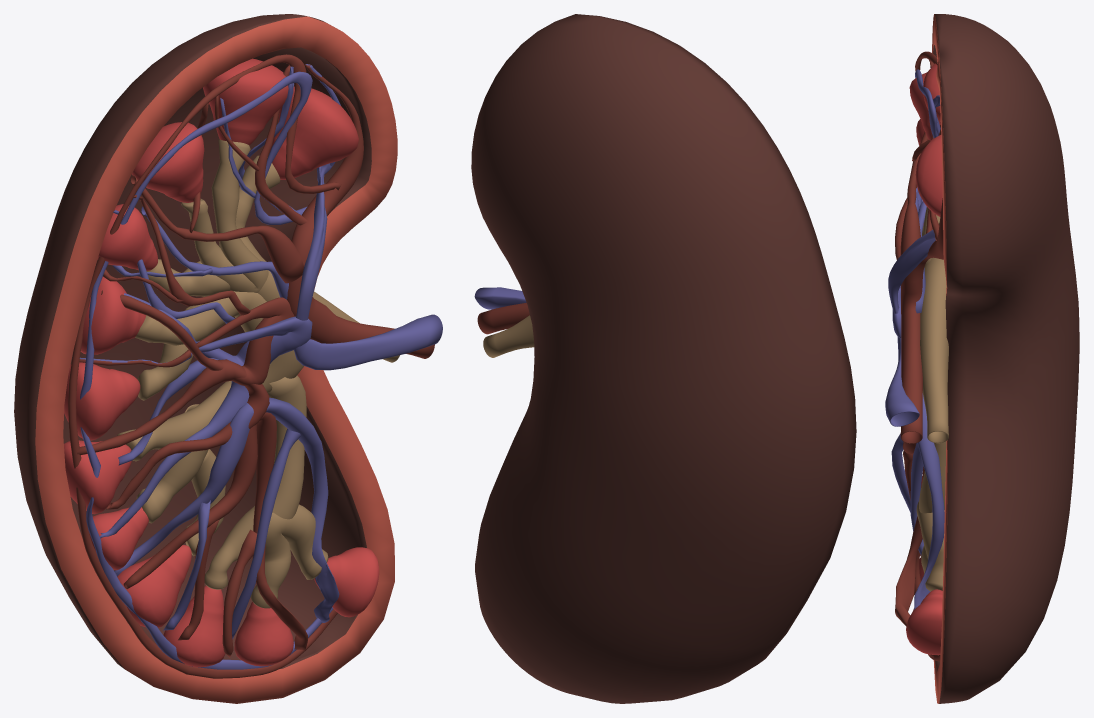
The model's file is kidney.glb.
3 views of the same model, side by side, from view 1: azimuth 30°, elevation 25°; view 2: azimuth 150°, elevation 25°; view 3: azimuth 270°, elevation 25° (orthographic). The views are drawn at different scales.
Parts seen in each view (by area): view 1: KidneyOutside, Icosphere, BezierCurve, BezierCurve.002, BezierCurve.001; view 2: KidneyOutside, BezierCurve.001, BezierCurve, BezierCurve.002; view 3: KidneyOutside, BezierCurve.002, BezierCurve, BezierCurve.001, Icosphere.
Part boxes in pixels (x1,y1,x2,y2): KidneyOutside: [14, 14, 397, 703]; Icosphere: [64, 58, 379, 667]; BezierCurve: [68, 54, 434, 678]; BezierCurve.002: [79, 64, 442, 669]; BezierCurve.001: [117, 139, 399, 608]; KidneyOutside: [471, 14, 856, 703]; BezierCurve.001: [483, 315, 534, 357]; BezierCurve: [477, 303, 529, 334]; BezierCurve.002: [474, 287, 526, 309]; KidneyOutside: [932, 14, 1079, 703]; BezierCurve.002: [885, 69, 944, 609]; BezierCurve: [895, 51, 943, 661]; BezierCurve.001: [916, 207, 948, 591]; Icosphere: [906, 63, 942, 655].
Size of the model in its own units: 154 by 254 by 68.84.
